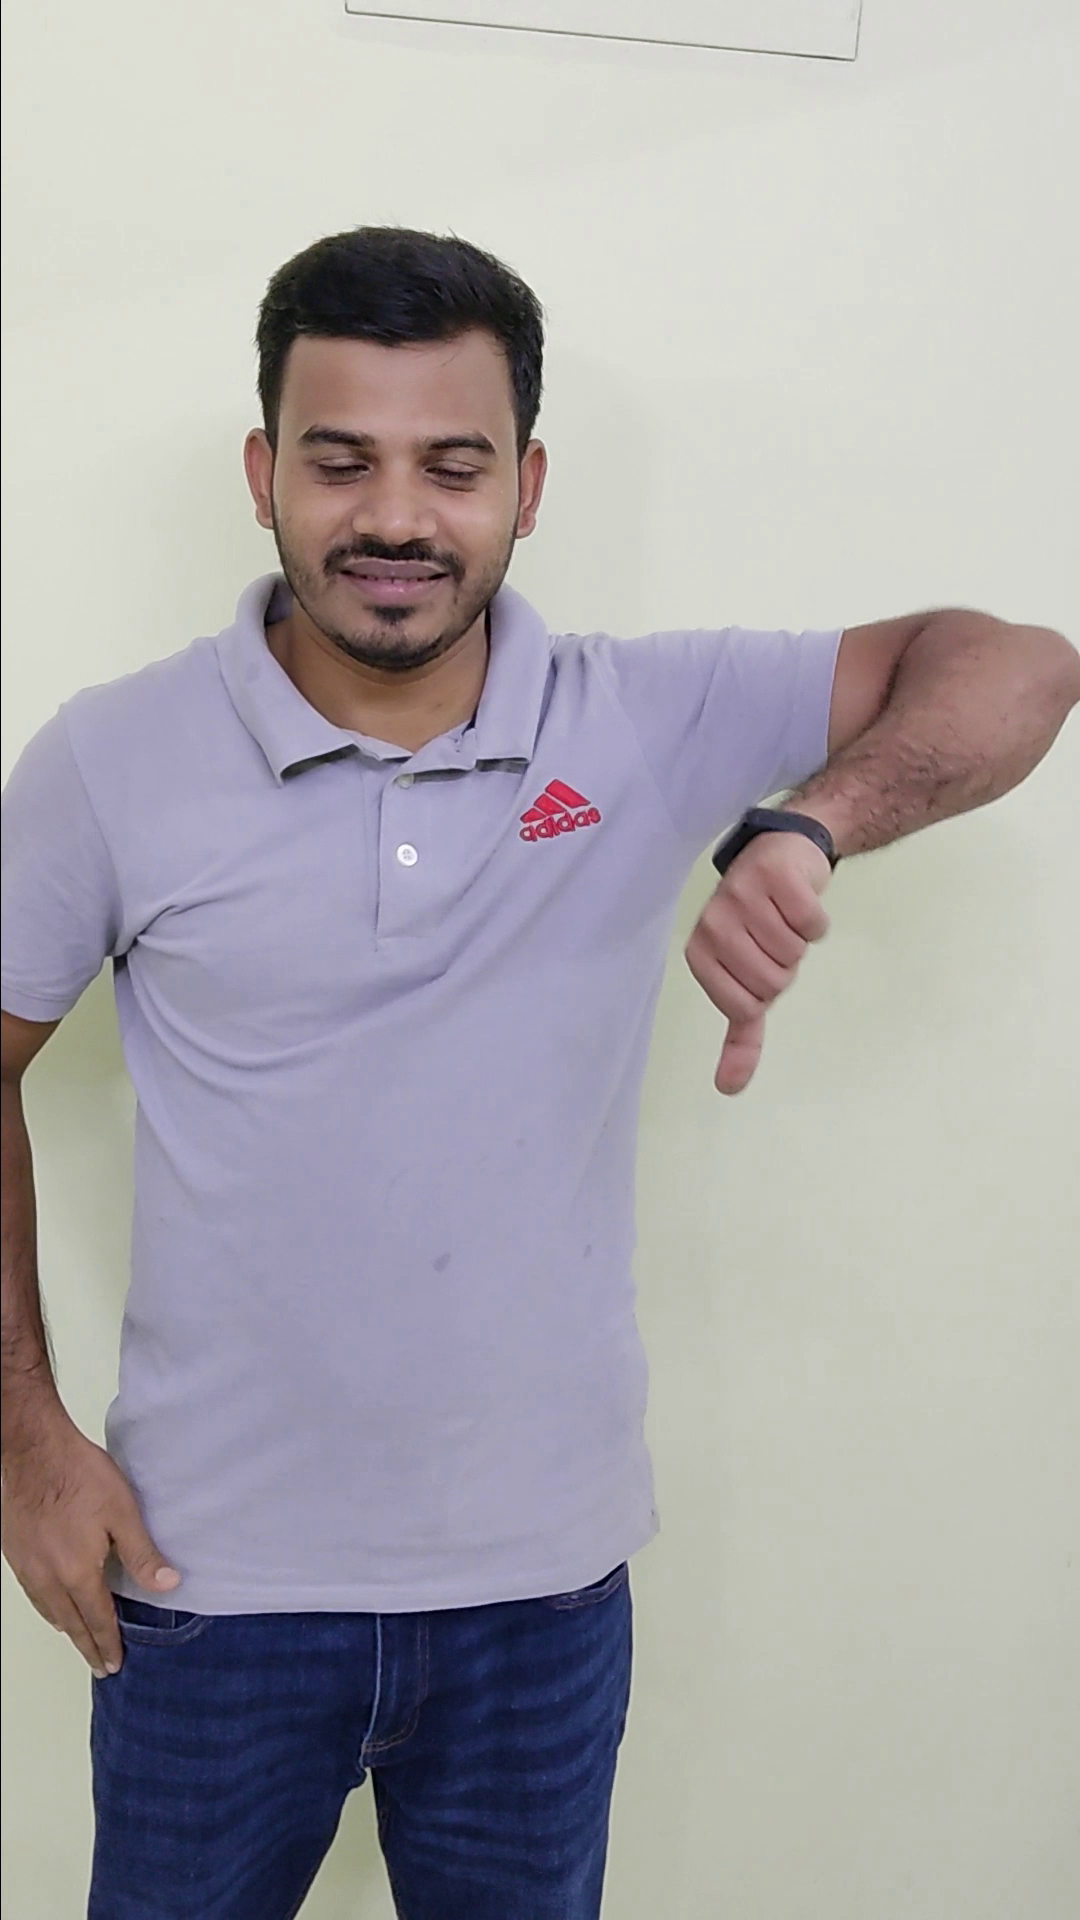Dislike: (633, 782, 884, 1109)
None: (3, 1390, 190, 1681)
